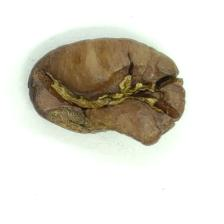NG: (44, 65, 174, 133)
